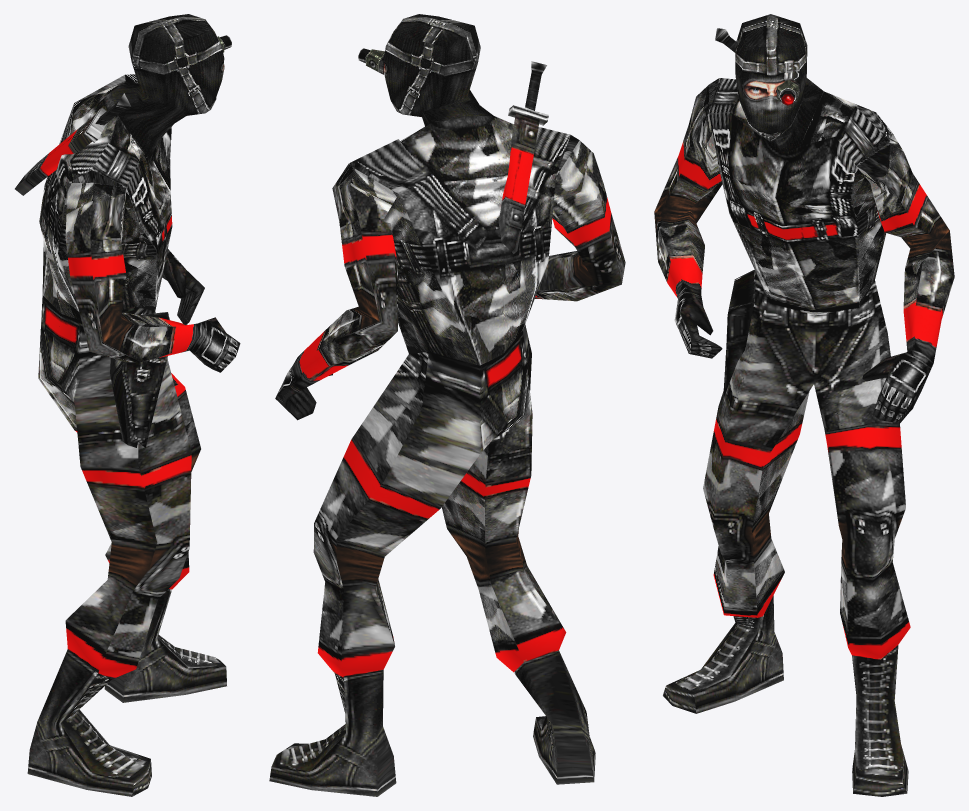
File: spy.glb
The picture shows the model from 3 angles, left to right: view 1: azimuth 30°, elevation 25°; view 2: azimuth 150°, elevation 25°; view 3: azimuth 270°, elevation 25°; orthographic projection. The views are drawn at different scales.
Visible parts, largest first — view 1: spy; view 2: spy; view 3: spy.
Part boxes in pixels (left/top/right/bottom): spy: left=15, top=14, right=240, bottom=796; spy: left=269, top=14, right=625, bottom=796; spy: left=654, top=14, right=954, bottom=796.
Size of the model in its own units: 25.21 by 68.82 by 25.92.
2 materials, 2 textured.
